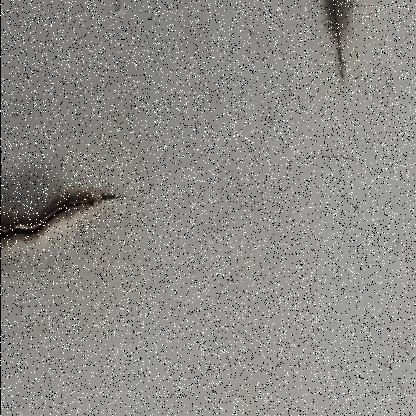Crack: (0, 136, 134, 294), (304, 0, 376, 111)
